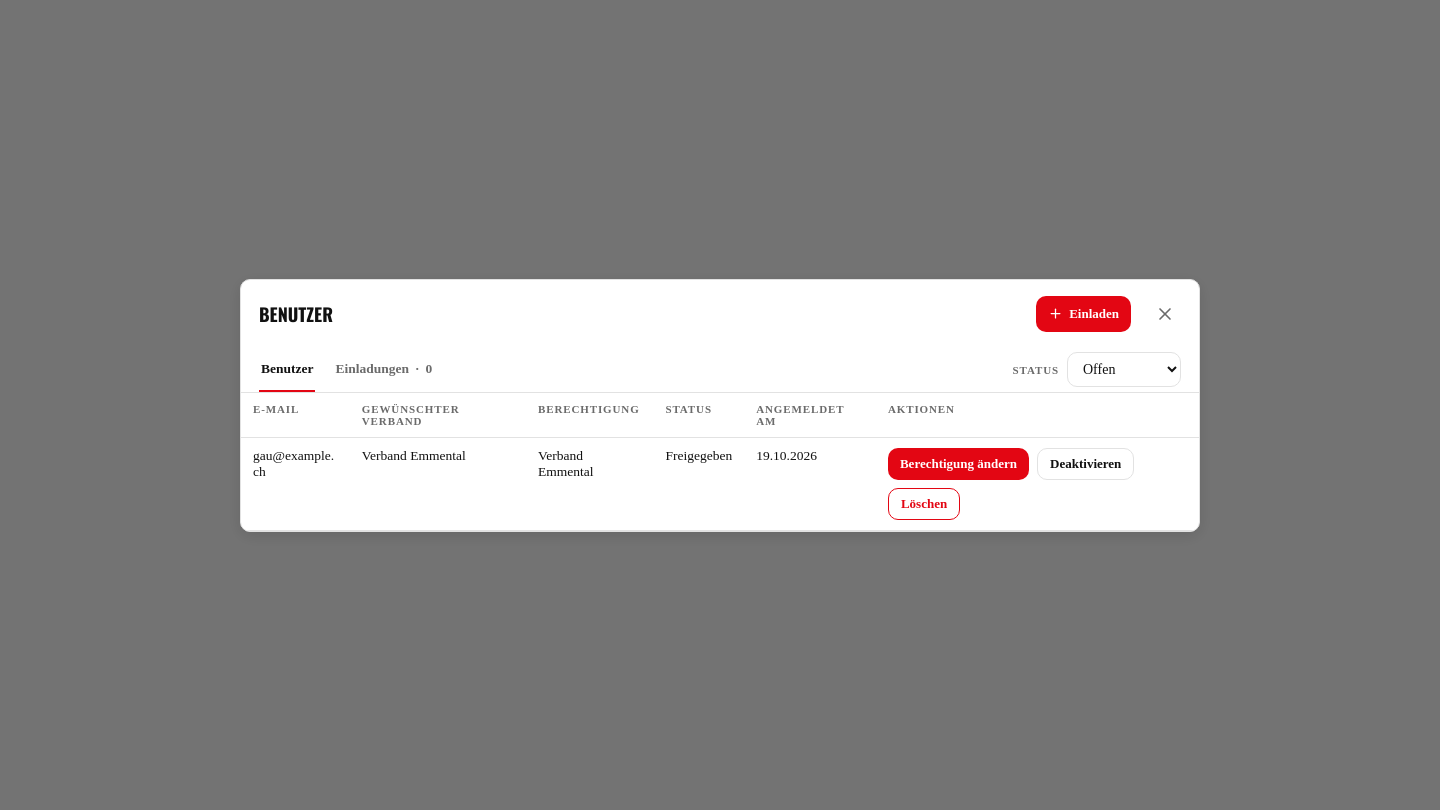
Test: AccountsPanel › closes the delete confirmation on cancel
The width and height of the screenshot is (1440, 810).
Click the button "Löschen" at (924, 504), box top-left (888, 488), bottom-right (960, 520)
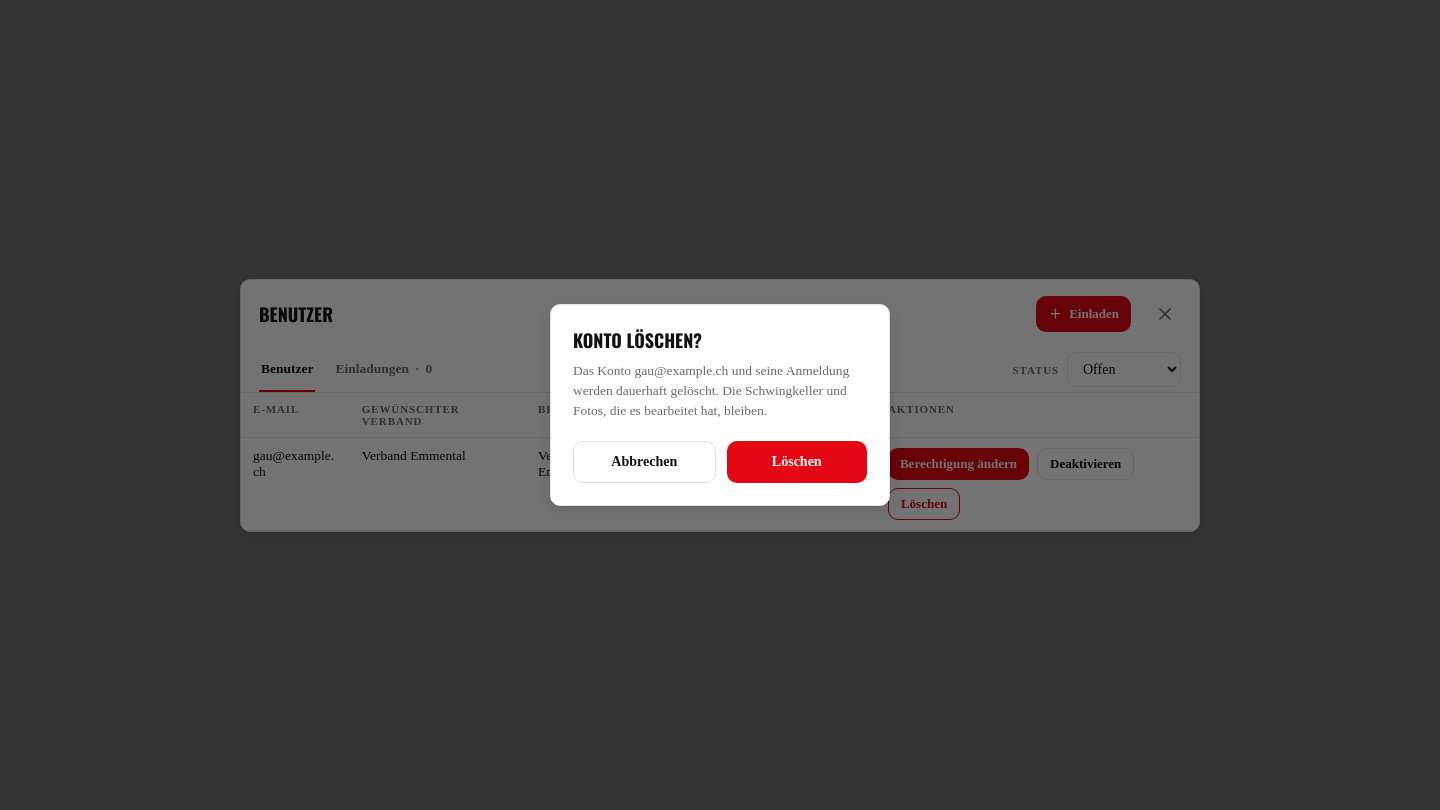
Click the button "Abbrechen" at (644, 462), box top-left (573, 441), bottom-right (716, 483)
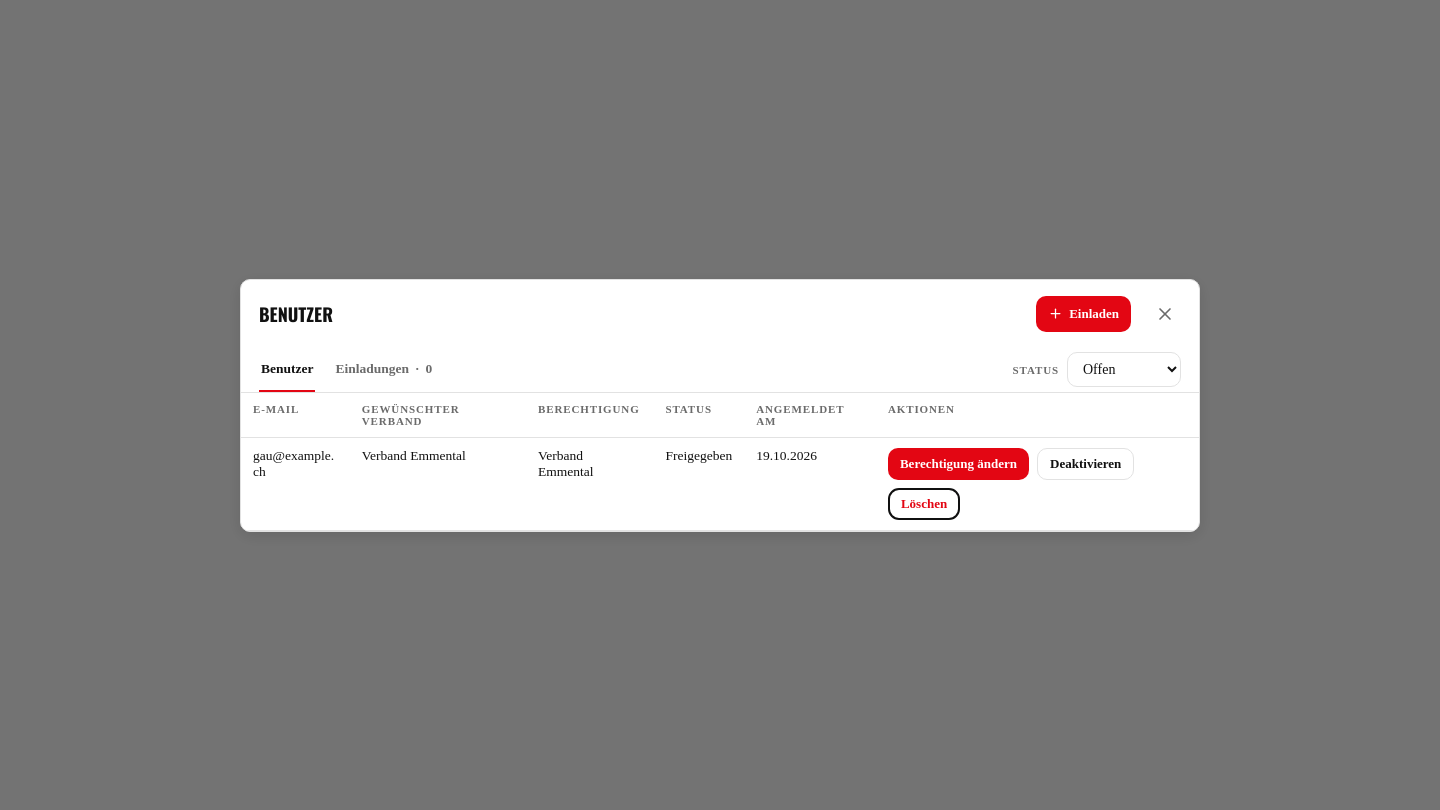
Result: the element with test id "delete-account-dialog" is gone
